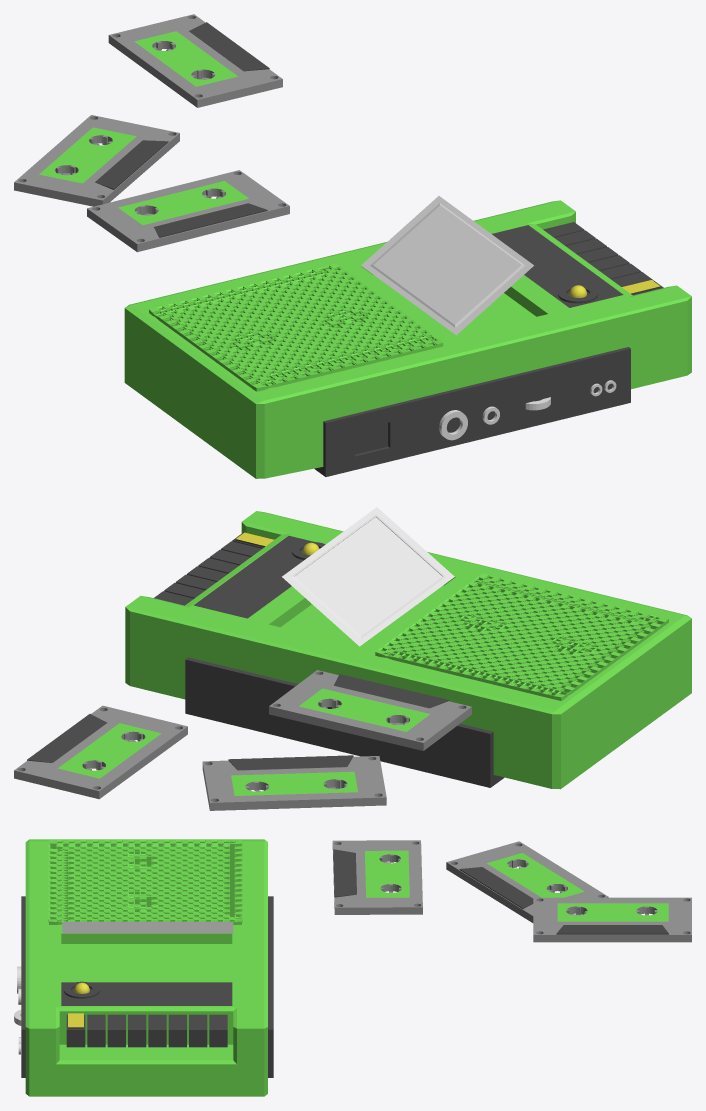
Rendered from cassetteplayer1.fbx.
The picture shows the model from 3 angles, top to bottom: view 1: azimuth 30°, elevation 25°; view 2: azimuth 150°, elevation 25°; view 3: azimuth 270°, elevation 25°; orthographic projection. The views are drawn at different scales.
Parts seen in each view (by area): view 1: Base, Plane.003, Cube.001, Plane.001, Plane.005, Plane.004, Plane.002, Plane, buttons; view 2: Base, Plane.003, Plane.001, Cube.001, Plane.005, Plane.002, Plane.004, Plane, buttons; view 3: Base, Plane.003, Plane.004, Plane.005, Plane.002, buttons, Plane, Plane.001, Cube.001.
Boxes of the visible parts, box(x1,y1,x2,y2) form: Base: box(124, 200, 691, 478); Plane.003: box(149, 264, 443, 391); Cube.001: box(314, 347, 630, 476); Plane.001: box(361, 196, 533, 335); Plane.005: box(87, 170, 289, 252); Plane.004: box(108, 14, 282, 107); Plane.002: box(14, 115, 179, 206); Plane: box(492, 225, 623, 307); buttons: box(543, 222, 663, 295); Base: box(125, 511, 691, 789); Plane.003: box(375, 573, 668, 700); Plane.001: box(282, 507, 454, 646); Cube.001: box(185, 657, 504, 787); Plane.005: box(269, 670, 471, 750); Plane.002: box(202, 755, 386, 810); Plane.004: box(14, 705, 187, 799); Plane: box(193, 535, 319, 618); buttons: box(154, 532, 274, 605); Base: box(25, 839, 267, 1096); Plane.003: box(48, 840, 242, 924); Plane.004: box(533, 897, 691, 942); Plane.005: box(332, 840, 422, 914); Plane.002: box(446, 841, 608, 922); buttons: box(66, 1013, 227, 1047); Plane: box(61, 982, 232, 1005); Plane.001: box(62, 922, 233, 933); Cube.001: box(21, 896, 273, 1077).
Size of the model in its own units: 578 by 175 by 870.
